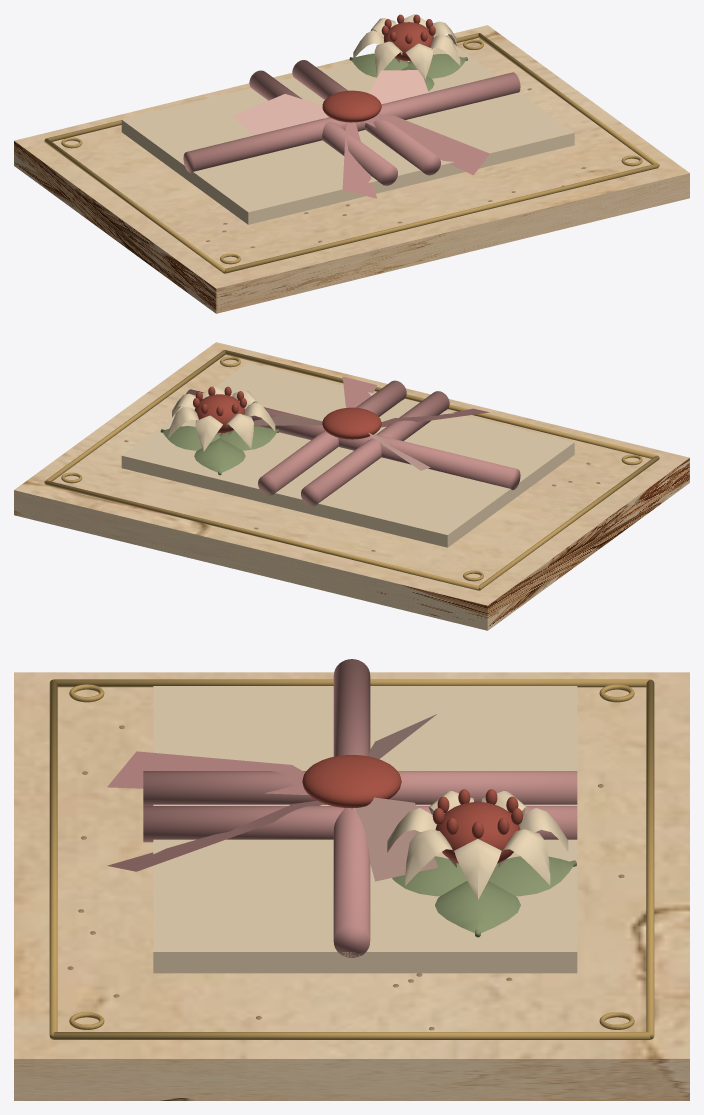
The model's file is eternal-letter.glb.
The picture shows the model from 3 angles, top to bottom: view 1: azimuth 30°, elevation 25°; view 2: azimuth 150°, elevation 25°; view 3: azimuth 270°, elevation 25°; orthographic projection. The views are drawn at different scales.
Parts seen in each view (by area): view 1: Handmade parchment card, Folded correspondence, Crossed silk, Silk wrap.001, Silk wrap, Gilt border.002, Folded ribbon bow.001, Flowing ribbon tail, Wax seal, Folded ribbon bow, Flowing ribbon tail.001, Gilt border (+7 smaller); view 2: Handmade parchment card, Folded correspondence, Crossed silk, Silk wrap, Silk wrap.001, Gilt border.003, Gilt border.002, Wax seal, Gilt border, Gilt border.001, Sepal.001, Pressed blossom heart (+7 smaller); view 3: Handmade parchment card, Folded correspondence, Silk wrap, Crossed silk, Silk wrap.001, Gilt border.001, Wax seal, Gilt border, Folded ribbon bow, Flowing ribbon tail.001, Gilt border.002, Gilt border.003 (+11 smaller).
Boxes of the visible parts, left/top/right/bottom form: Handmade parchment card: left=14, top=25, right=689, bottom=313; Folded correspondence: left=121, top=45, right=574, bottom=224; Crossed silk: left=183, top=72, right=520, bottom=172; Silk wrap.001: left=292, top=60, right=440, bottom=175; Silk wrap: left=249, top=70, right=397, bottom=185; Gilt border.002: left=225, top=163, right=658, bottom=273; Folded ribbon bow.001: left=232, top=94, right=328, bottom=135; Flowing ribbon tail: left=363, top=115, right=489, bottom=175; Wax seal: left=322, top=90, right=381, bottom=122; Folded ribbon bow: left=368, top=70, right=428, bottom=104; Flowing ribbon tail.001: left=342, top=122, right=376, bottom=198; Gilt border: left=44, top=138, right=224, bottom=273; Handmade parchment card: left=14, top=342, right=689, bottom=630; Folded correspondence: left=121, top=363, right=574, bottom=547; Crossed silk: left=186, top=389, right=520, bottom=489; Silk wrap: left=301, top=391, right=449, bottom=506; Silk wrap.001: left=258, top=380, right=406, bottom=495; Gilt border.003: left=45, top=480, right=478, bottom=590; Gilt border.002: left=225, top=350, right=657, bottom=458; Wax seal: left=322, top=407, right=381, bottom=439; Gilt border: left=479, top=455, right=659, bottom=590; Gilt border.001: left=44, top=350, right=225, bottom=483; Sepal.001: left=194, top=438, right=245, bottom=472; Pressed blossom heart: left=194, top=394, right=244, bottom=433; Handmade parchment card: left=14, top=672, right=689, bottom=1100; Folded correspondence: left=153, top=686, right=577, bottom=973; Silk wrap: left=143, top=771, right=577, bottom=805; Crossed silk: left=333, top=659, right=370, bottom=957; Silk wrap.001: left=143, top=806, right=577, bottom=842; Gilt border.001: left=53, top=1032, right=650, bottom=1039; Wax seal: left=302, top=755, right=401, bottom=808; Gilt border: left=54, top=679, right=649, bottom=687; Folded ribbon bow: left=355, top=797, right=437, bottom=881; Flowing ribbon tail.001: left=107, top=751, right=308, bottom=794; Gilt border.002: left=49, top=679, right=57, bottom=1039; Gilt border.003: left=646, top=679, right=654, bottom=1039.
Size of the model in its own units: 2.76 by 0.597 by 2.04.
8 materials, 1 textured.
